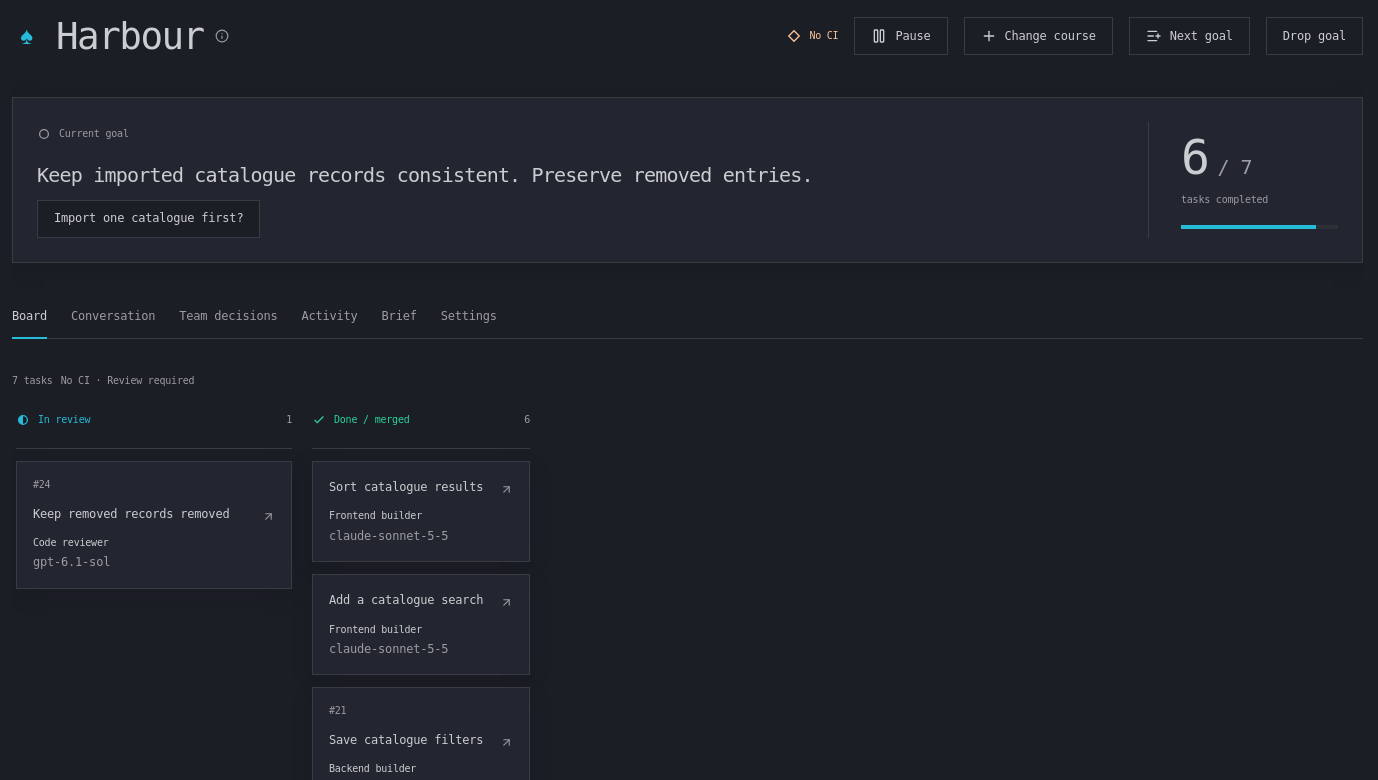
Test: goals › drops the active goal through the owner API
Click the button "Drop goal" at x=1314, y=36, box [1266,17,1363,55]
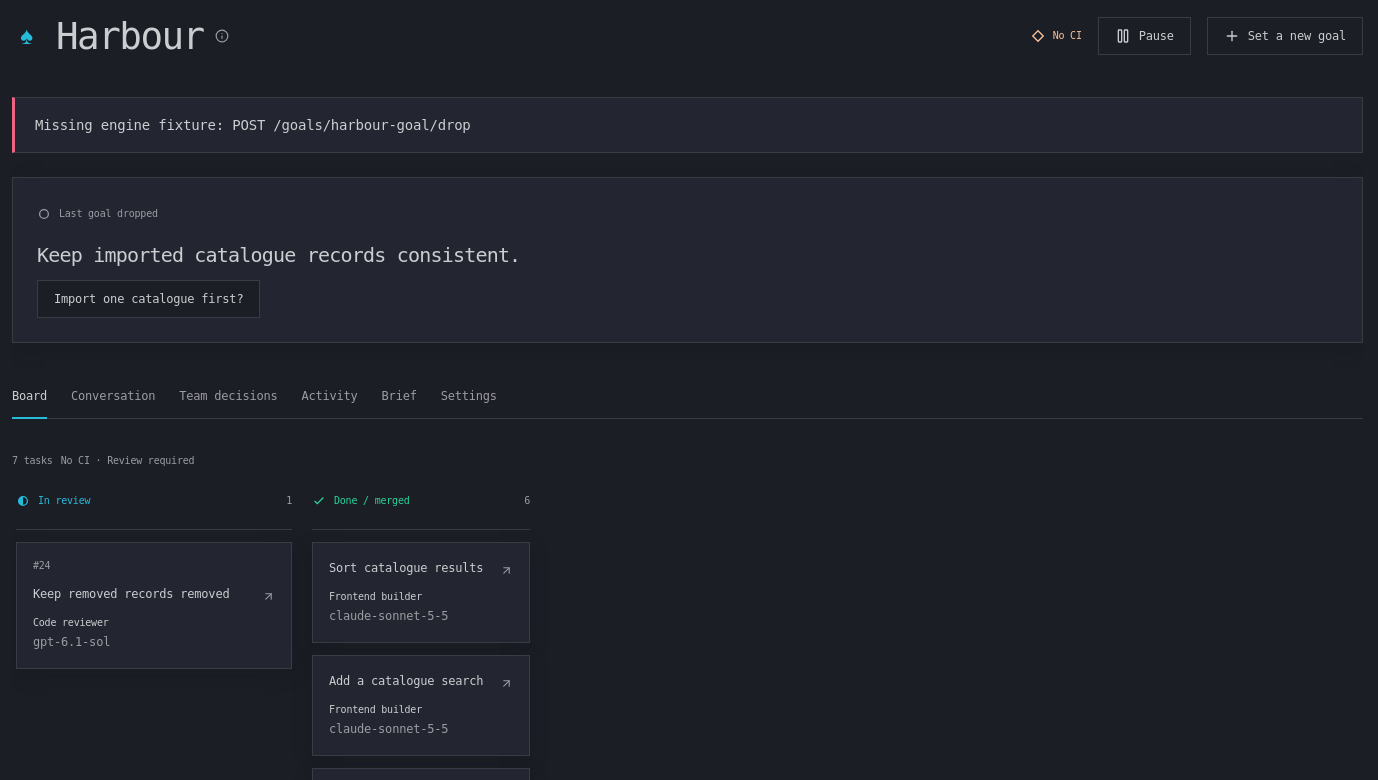
Check: the text "Last goal dropped" is shown, box [59,207,158,221]
Check: the button "Drop goal" is gone
